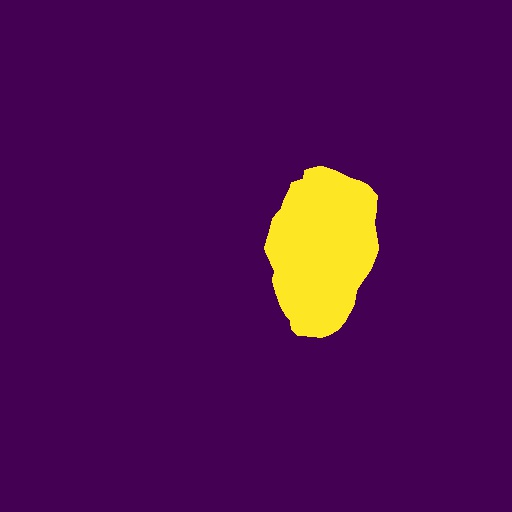Gliomia_tumour: (264, 166, 379, 338)
